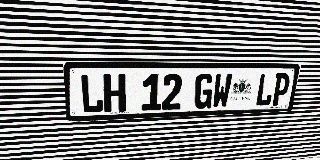1: (142, 74, 163, 111)
2: (162, 74, 183, 110)
G: (193, 73, 215, 109)
H: (103, 74, 125, 113)
L: (80, 74, 104, 114), (255, 73, 276, 106)
P: (270, 73, 291, 106)
W: (212, 73, 233, 108)
